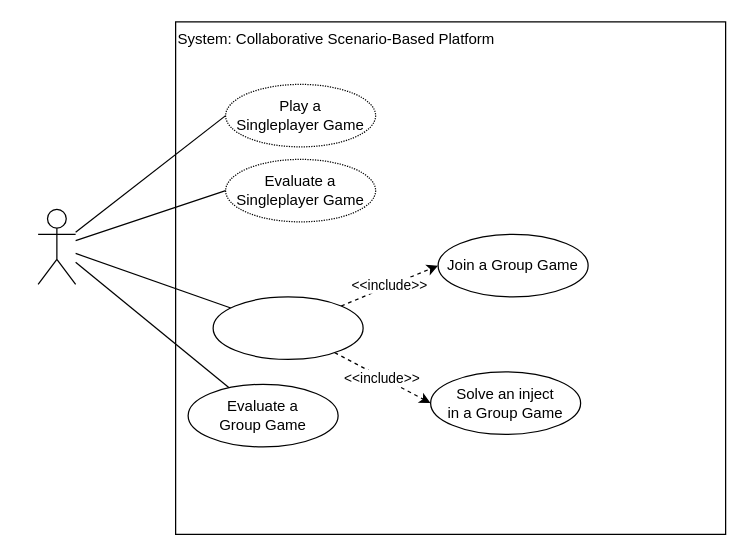
Some shapes in this 748 by 556 pixel diagram are drawn without their labels. Each missing label, with the box of its shape:
Participant: (37, 208, 76, 284)
Participate in a Group Game: (212, 296, 363, 359)
